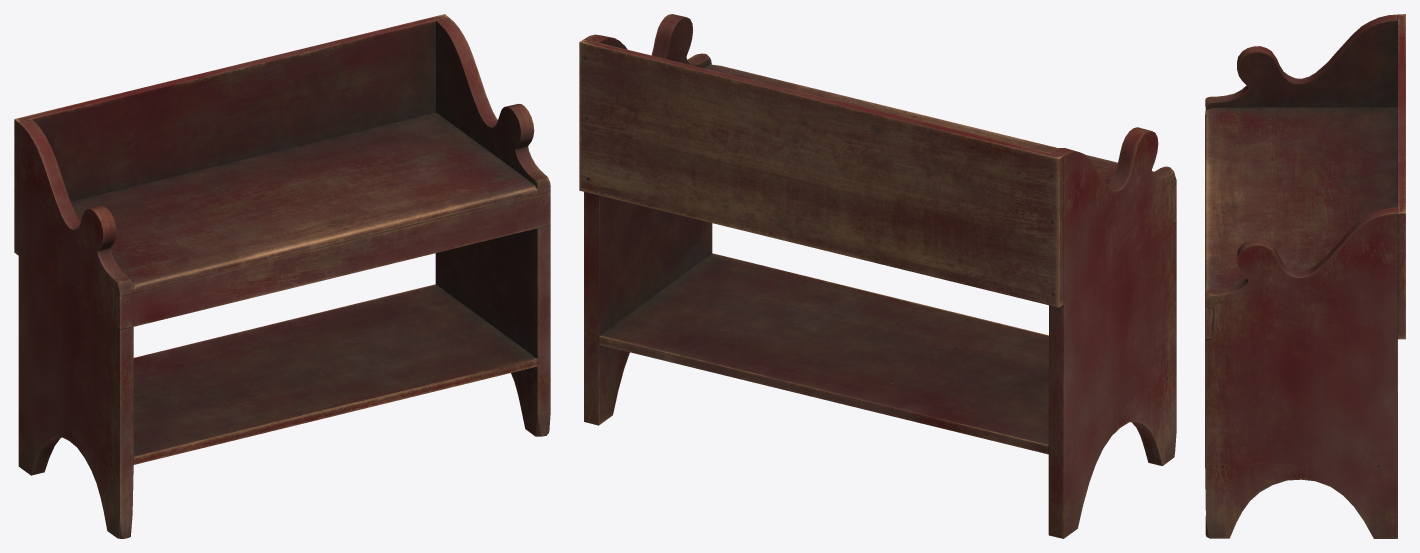
The model's file is painted_wooden_bench.glb.
3 views of the same model, side by side, from view 1: azimuth 30°, elevation 25°; view 2: azimuth 150°, elevation 25°; view 3: azimuth 270°, elevation 25° (orthographic). The views are drawn at different scales.
Parts seen in each view (by area): view 1: painted_wooden_bench; view 2: painted_wooden_bench; view 3: painted_wooden_bench.
Boxes of the visible parts, left/top/right/bottom form: painted_wooden_bench: left=14, top=14, right=550, bottom=538; painted_wooden_bench: left=579, top=14, right=1176, bottom=538; painted_wooden_bench: left=1205, top=14, right=1405, bottom=538.
Size of the model in its own units: 1.16 by 0.8893 by 0.4965.
1 material, 1 textured.
